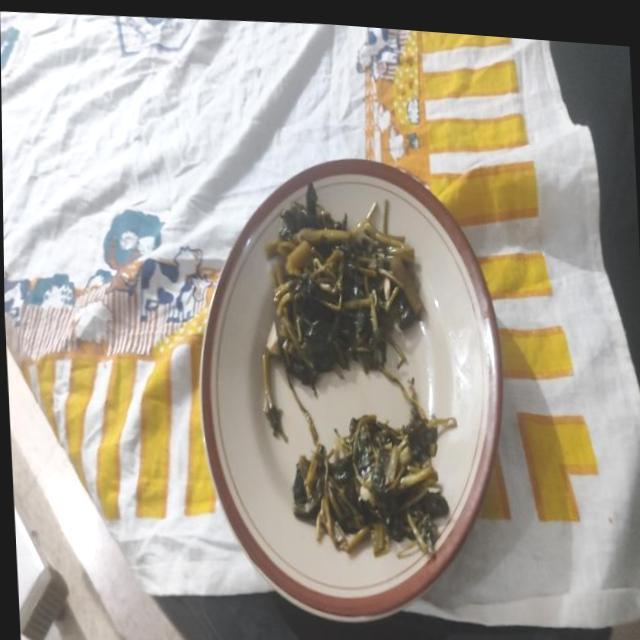tumis_kangkung: (264, 198, 422, 396), (292, 378, 456, 556)
